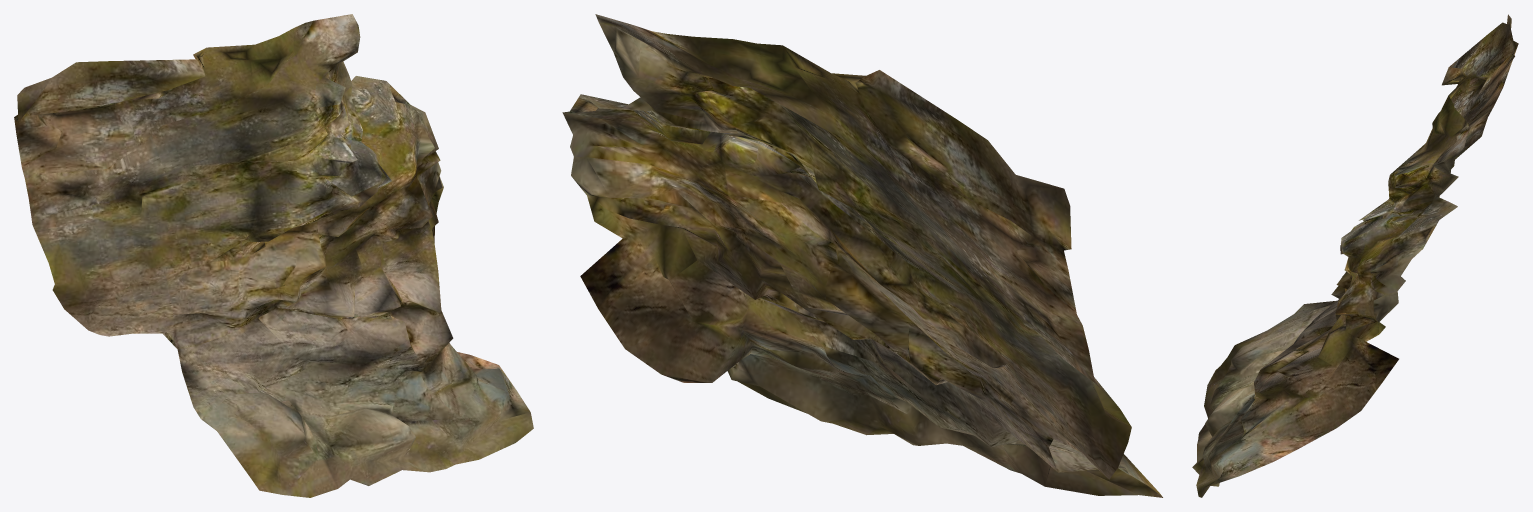
The model's file is rock_face_02.glb.
3 renders of one model, left to right at view 1: azimuth 30°, elevation 25°; view 2: azimuth 150°, elevation 25°; view 3: azimuth 270°, elevation 25°, orthographic. The views are drawn at different scales.
Parts seen in each view (by area): view 1: rock_face_02; view 2: rock_face_02; view 3: rock_face_02.
Part boxes in pixels (x1,y1,x2,y2): rock_face_02: [14, 14, 533, 497]; rock_face_02: [562, 14, 1162, 497]; rock_face_02: [1192, 14, 1518, 497].
Size of the model in its own units: 2.71 by 2.47 by 2.13.
1 material, 1 textured.
